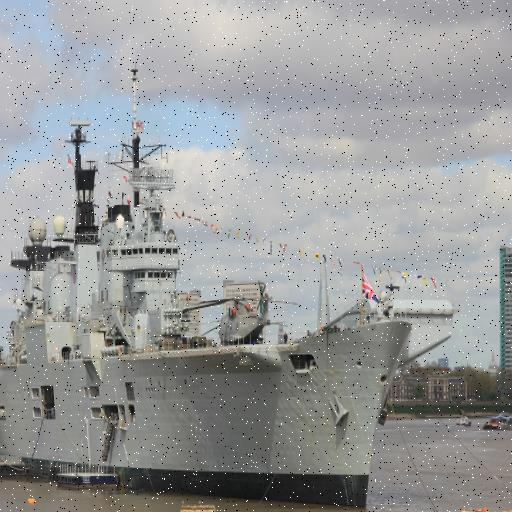Portanaves: (1, 51, 414, 512)
